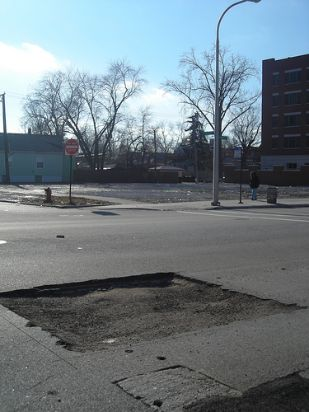pothole: (1, 266, 298, 353)
